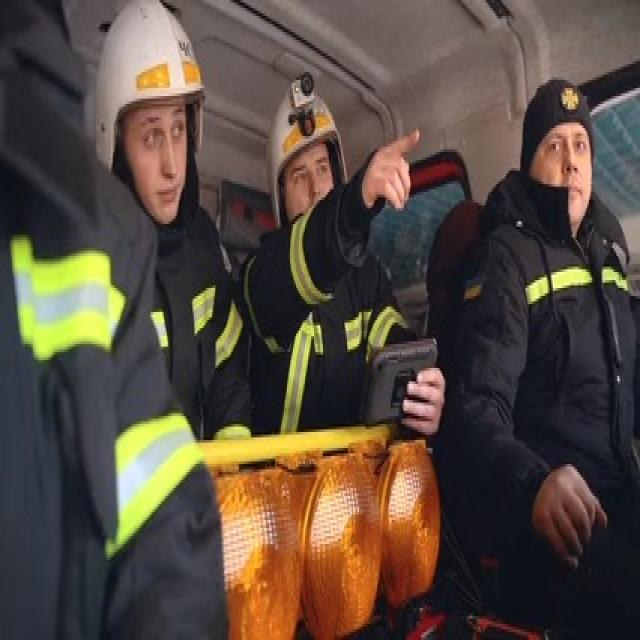Helmet_Wearer: (80, 5, 207, 204), (256, 68, 355, 241)
Jacket_Wearer: (454, 183, 640, 640), (235, 175, 420, 446), (81, 203, 239, 441)
Person: (454, 79, 640, 635), (236, 59, 436, 489), (76, 0, 247, 436)
